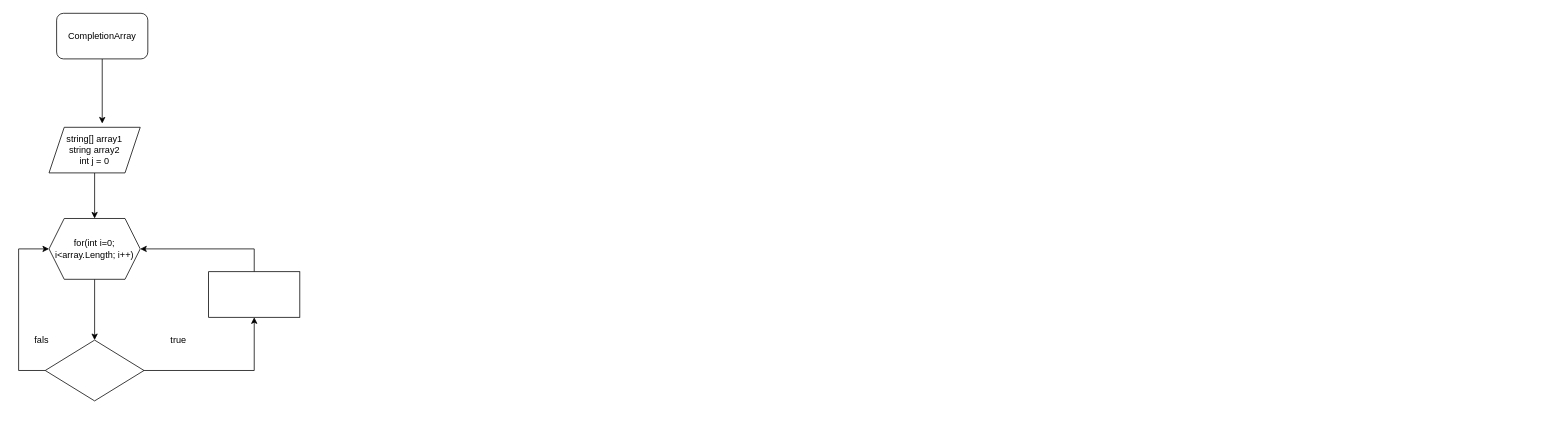
Some shapes in this 1553 by 437 pixel diagram are drawn without their labels. Each missing label, with the centre of its shape:
"array2[j]=array1[i]; j++;" goes at (254,294).
"if array1[i].Length<=3" goes at (94,370).
